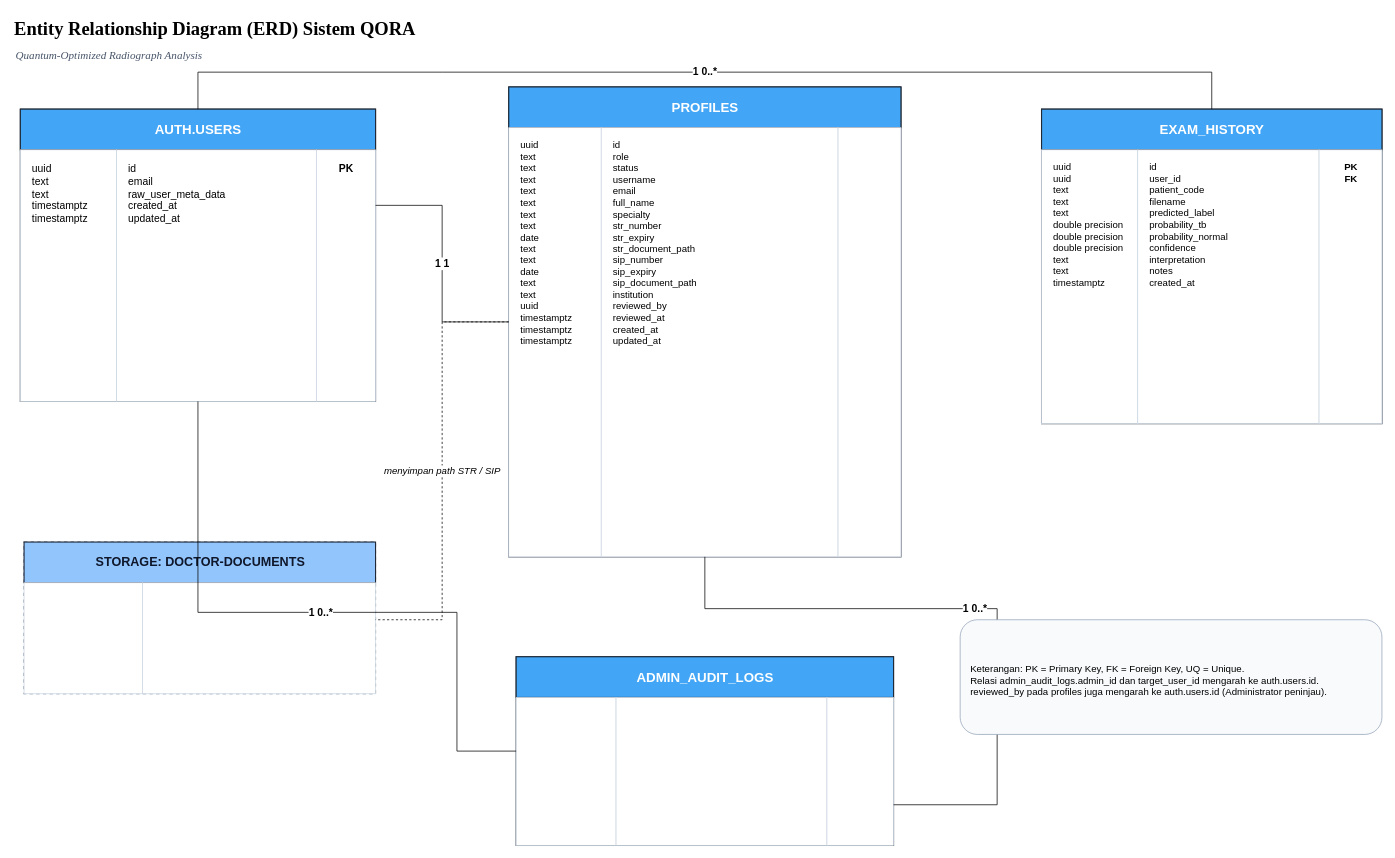
Some shapes in this 1395 by 858 pixel diagram are drawn without their labels. Here are the shapes that lost their labels. From the top down, the centre of each, then its label:
(x=869, y=342): PK, FK UQ FK
(x=82, y=638): private bucket text text
(x=259, y=638): bucket_id = doctor-documents STR document file SIP document file
(x=565, y=771): uuid uuid uuid text text timestamptz
(x=721, y=771): id admin_id target_user_id action rejection_reason created_at
(x=860, y=771): PK FK FK
